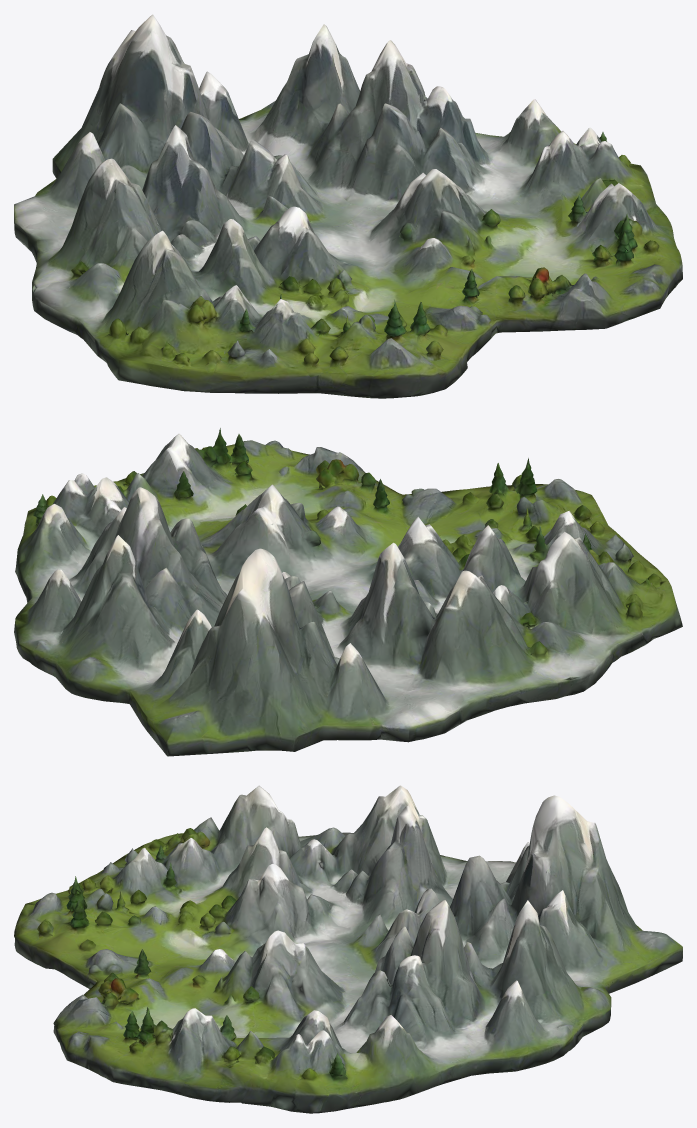
The model's file is mountain-backdrop-square.glb.
The picture shows the model from 3 angles, top to bottom: view 1: azimuth 30°, elevation 25°; view 2: azimuth 150°, elevation 25°; view 3: azimuth 270°, elevation 25°; orthographic projection. The views are drawn at different scales.
Bounding box in the file's own units: 1.82 × 0.4893 × 1.91.
Materials: 1 (1 with a texture image).
